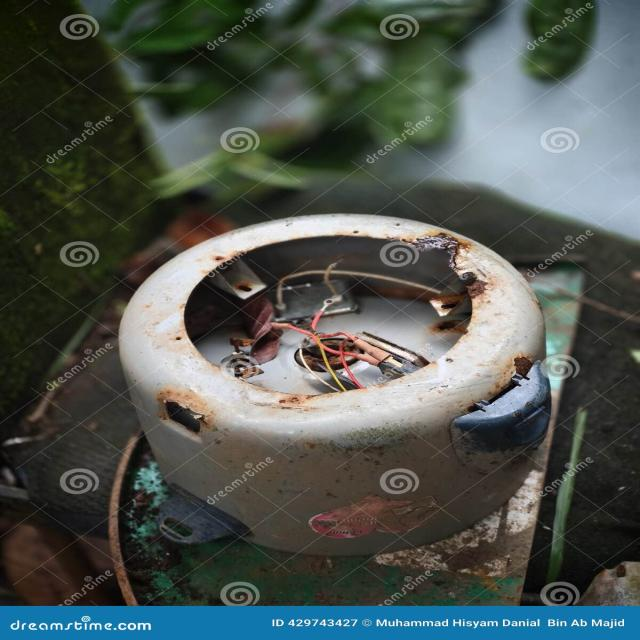electronics: (120, 214, 548, 554)
